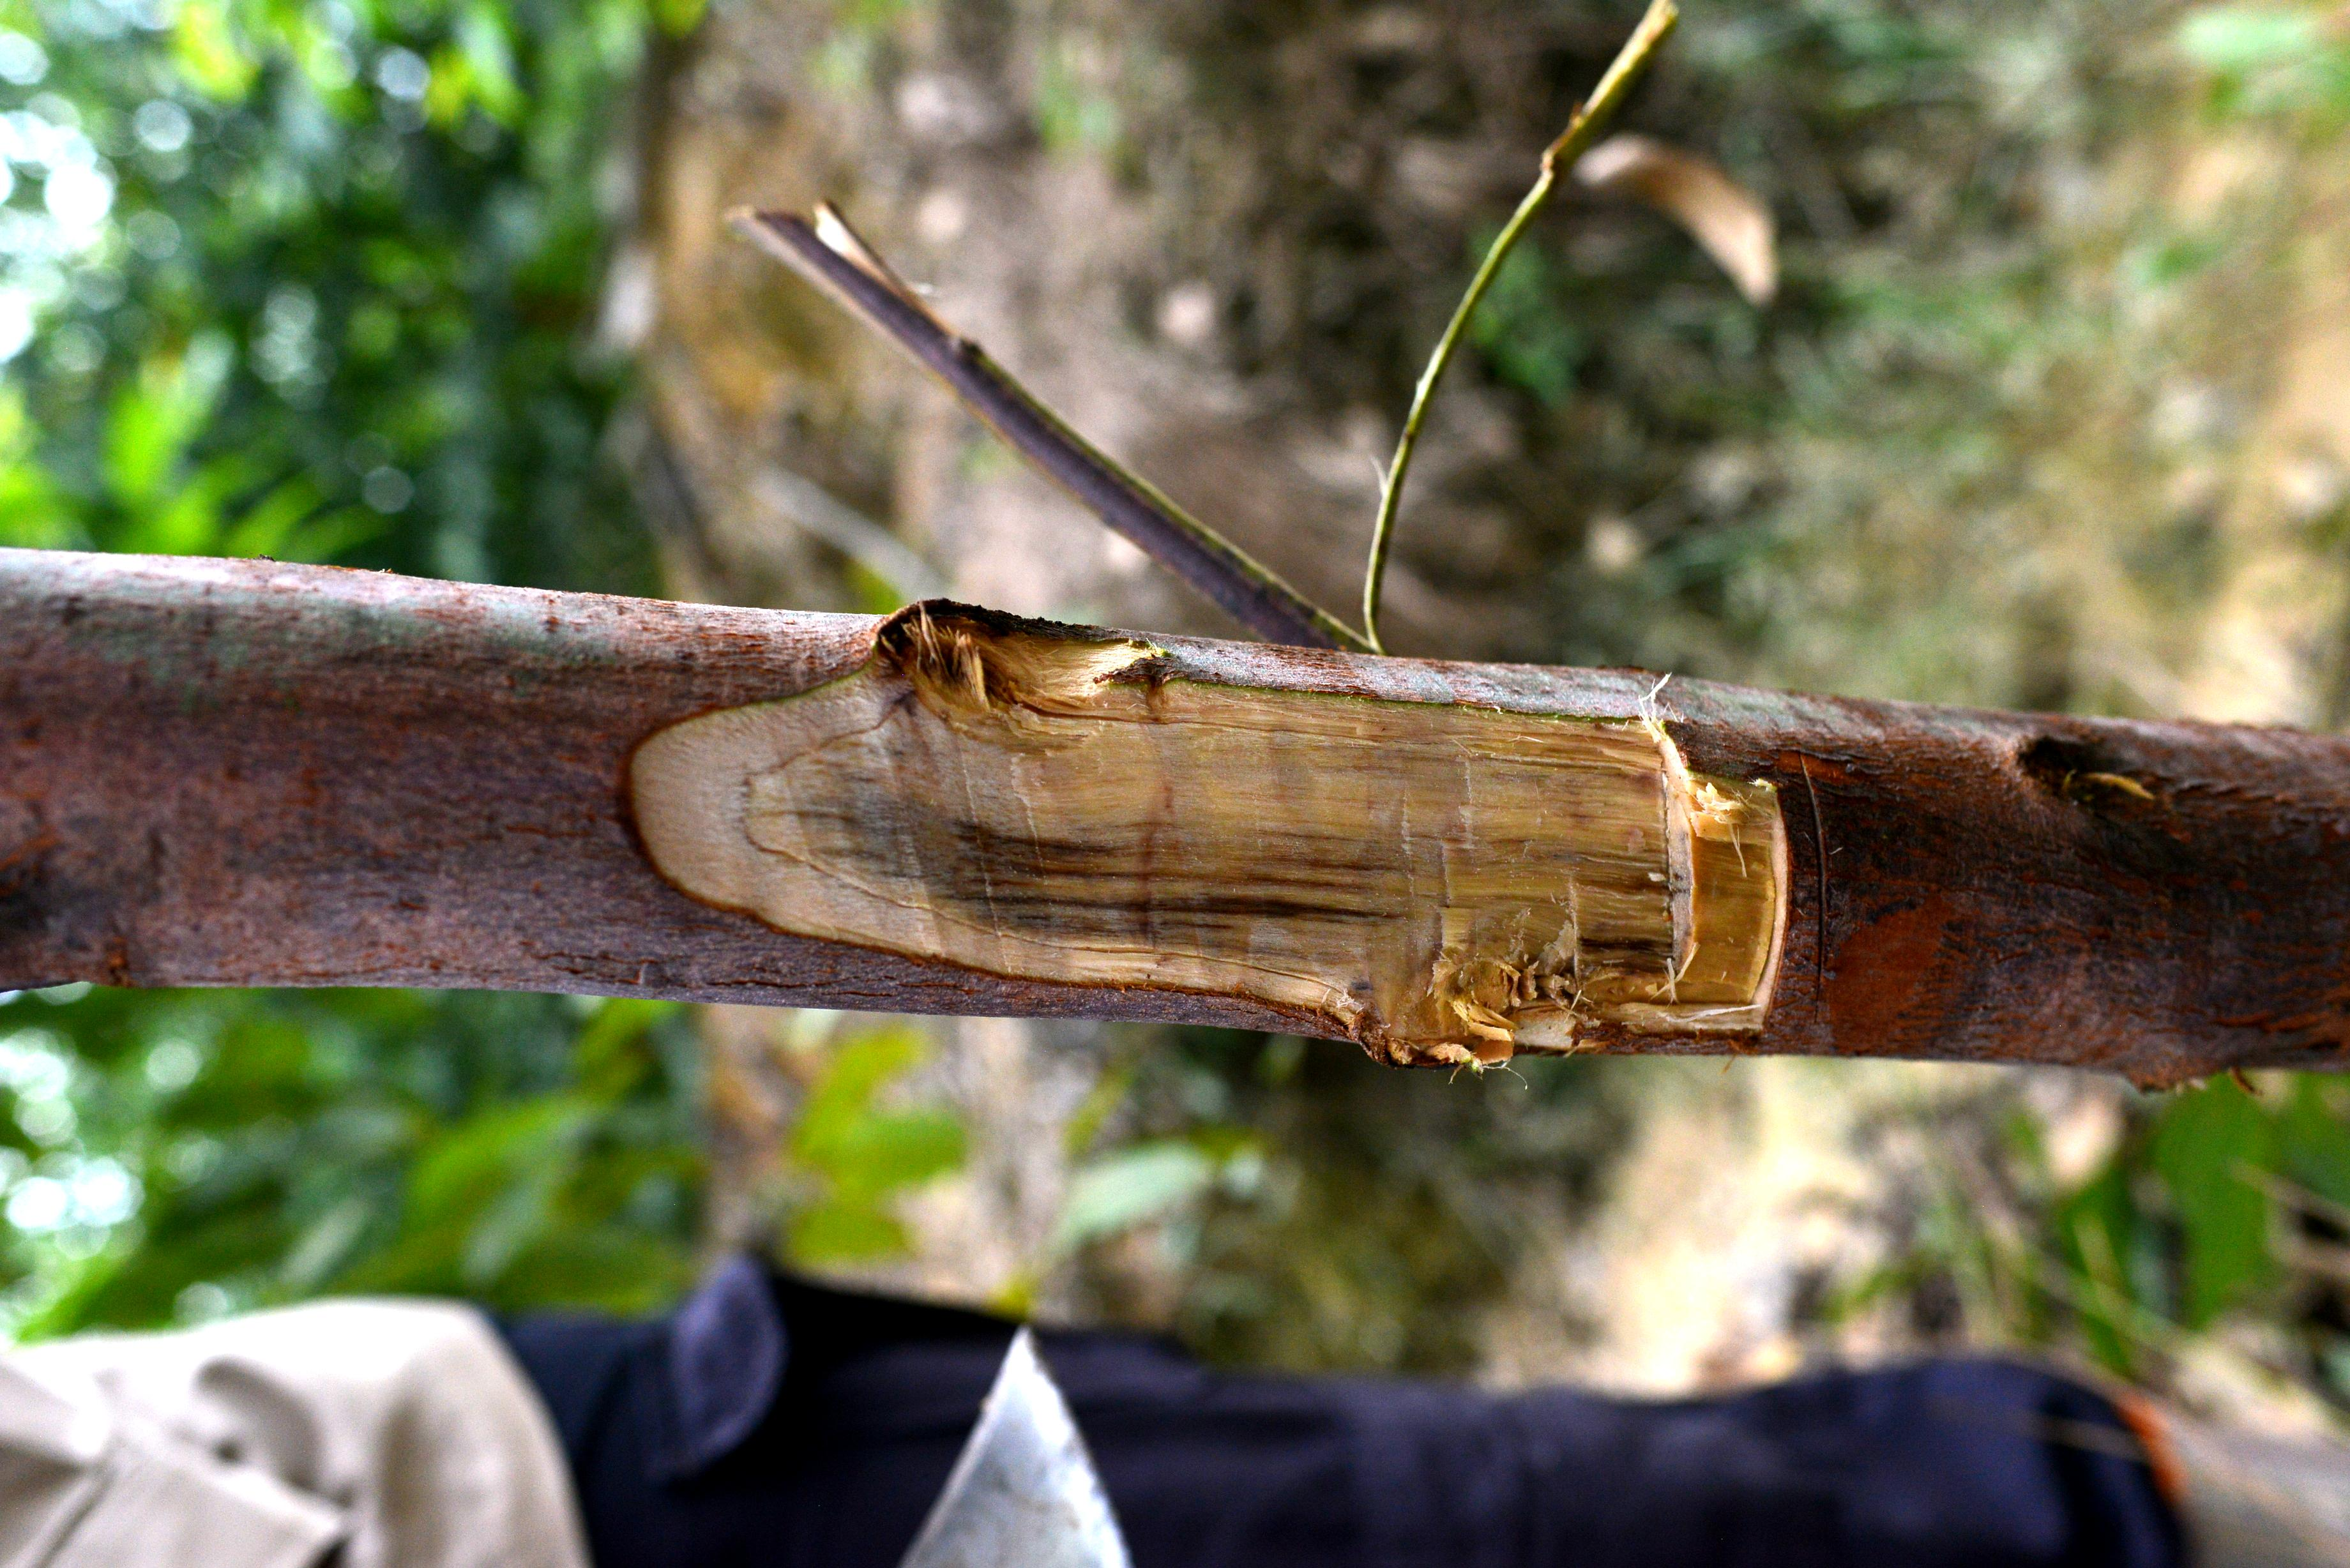Ralstonia: (663, 693, 1792, 1004)
